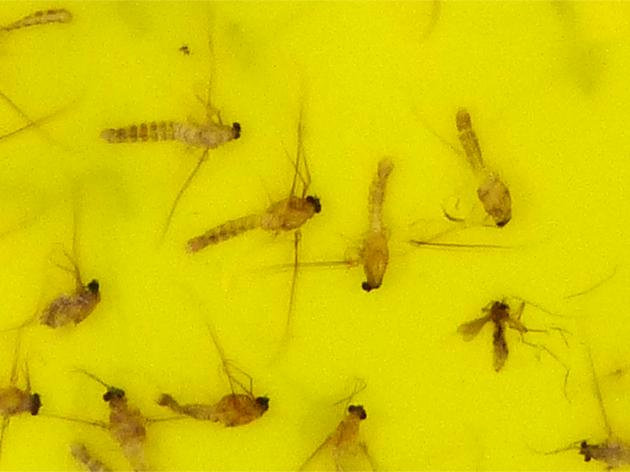Ephemeroptera: (186, 159, 324, 272), (443, 100, 521, 236), (348, 140, 408, 295), (100, 101, 244, 165)
Nematocera: (459, 296, 530, 372)
